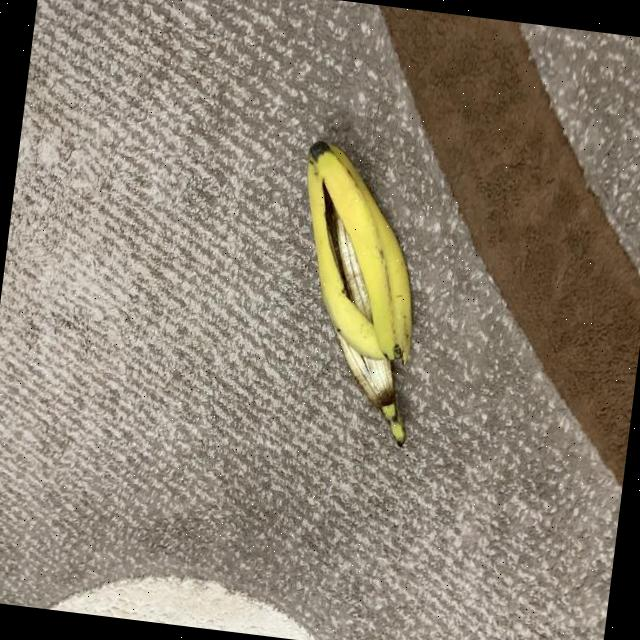banana-peel: (272, 136, 442, 446)
